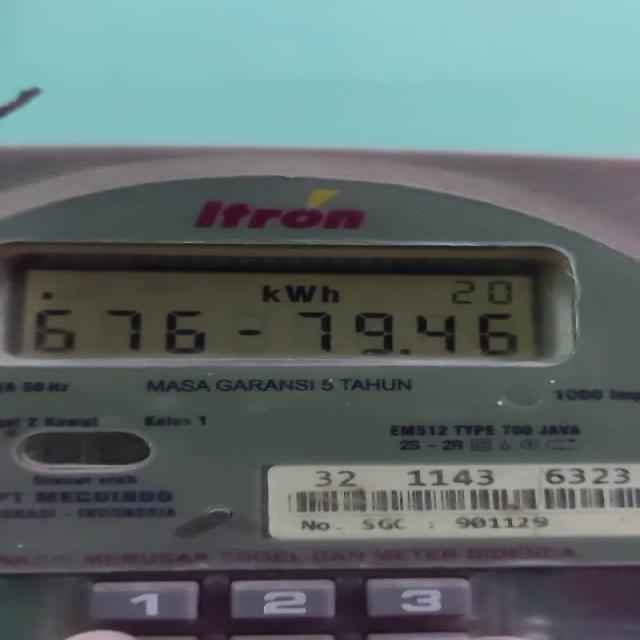LCD: (9, 248, 578, 367)
